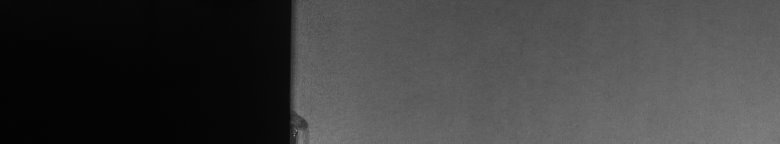hb: (300, 110, 317, 136)
